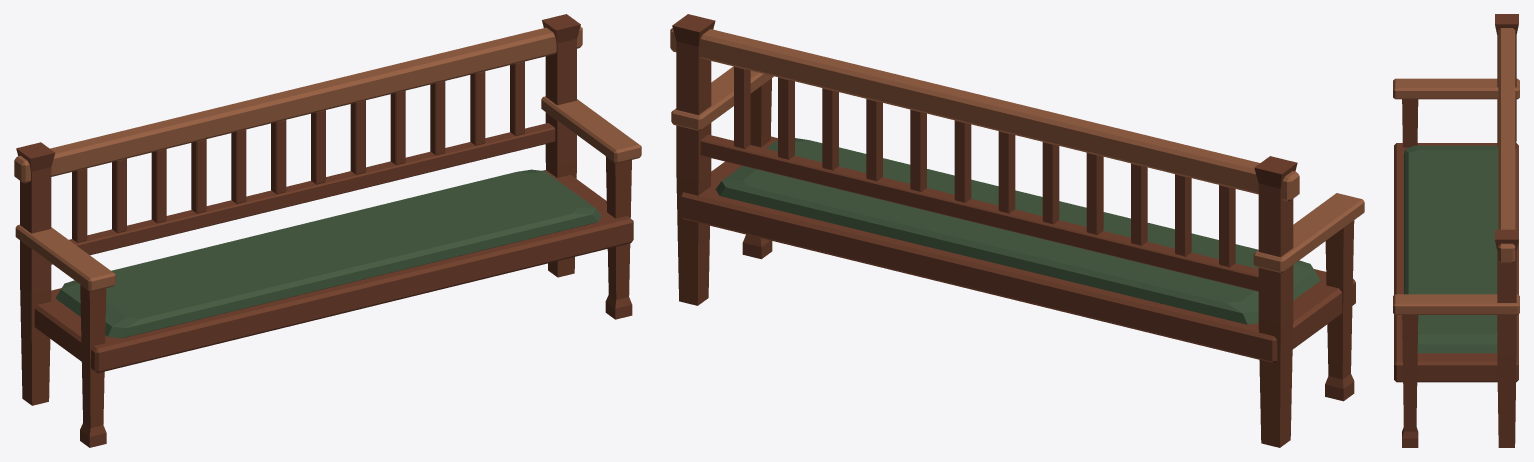
Rendered from bench_03.glb.
3 views of the same model, side by side, from view 1: azimuth 30°, elevation 25°; view 2: azimuth 150°, elevation 25°; view 3: azimuth 270°, elevation 25° (orthographic). The views are drawn at different scales.
Visible parts, largest first — view 1: LongCushion, SeatBase, BackTopRail, BackBottomRail, RearLeg, RearLeg_001, FrontLeg, FrontLeg_001, ArmRest, ArmRest_001, Slat_10, Slat_00 (+10 smaller); view 2: LongCushion, SeatBase, BackTopRail, BackBottomRail, RearLeg, RearLeg_001, FrontLeg, ArmRest, ArmRest_001, FrontLeg_001, Slat_03, Slat_04 (+10 smaller); view 3: LongCushion, SeatBase, BackTopRail, RearLeg_001, ArmRest_001, ArmRest, FrontLeg_001, RearLeg, FrontLeg.
Part boxes in pixels (x1,y1,x2,y2): LongCushion: [55, 169, 601, 338]; SeatBase: [34, 170, 633, 373]; BackTopRail: [14, 26, 582, 183]; BackBottomRail: [51, 123, 555, 264]; RearLeg: [16, 142, 54, 405]; RearLeg_001: [542, 14, 580, 277]; FrontLeg: [80, 285, 106, 447]; FrontLeg_001: [605, 156, 632, 319]; ArmRest: [15, 224, 115, 291]; ArmRest_001: [541, 96, 641, 163]; Slat_10: [470, 71, 485, 145]; Slat_00: [72, 168, 87, 242]; LongCushion: [715, 138, 1320, 324]; SeatBase: [680, 136, 1355, 363]; BackTopRail: [670, 28, 1299, 201]; BackBottomRail: [700, 134, 1258, 291]; RearLeg: [1254, 156, 1297, 447]; RearLeg_001: [672, 14, 715, 305]; FrontLeg: [1325, 220, 1354, 401]; ArmRest: [1253, 193, 1364, 272]; ArmRest_001: [671, 66, 773, 130]; FrontLeg_001: [742, 78, 772, 259]; Slat_03: [1086, 152, 1103, 235]; Slat_04: [1042, 142, 1059, 224]; LongCushion: [1404, 145, 1498, 353]; SeatBase: [1394, 143, 1518, 382]; BackTopRail: [1498, 28, 1515, 263]; RearLeg_001: [1495, 229, 1518, 447]; ArmRest_001: [1393, 294, 1519, 314]; ArmRest: [1393, 78, 1519, 99]; FrontLeg_001: [1402, 315, 1418, 447]; RearLeg: [1495, 14, 1518, 148]; FrontLeg: [1402, 99, 1418, 147].
Bounding box in the file's own units: 2.4 × 1.02 × 0.558.
